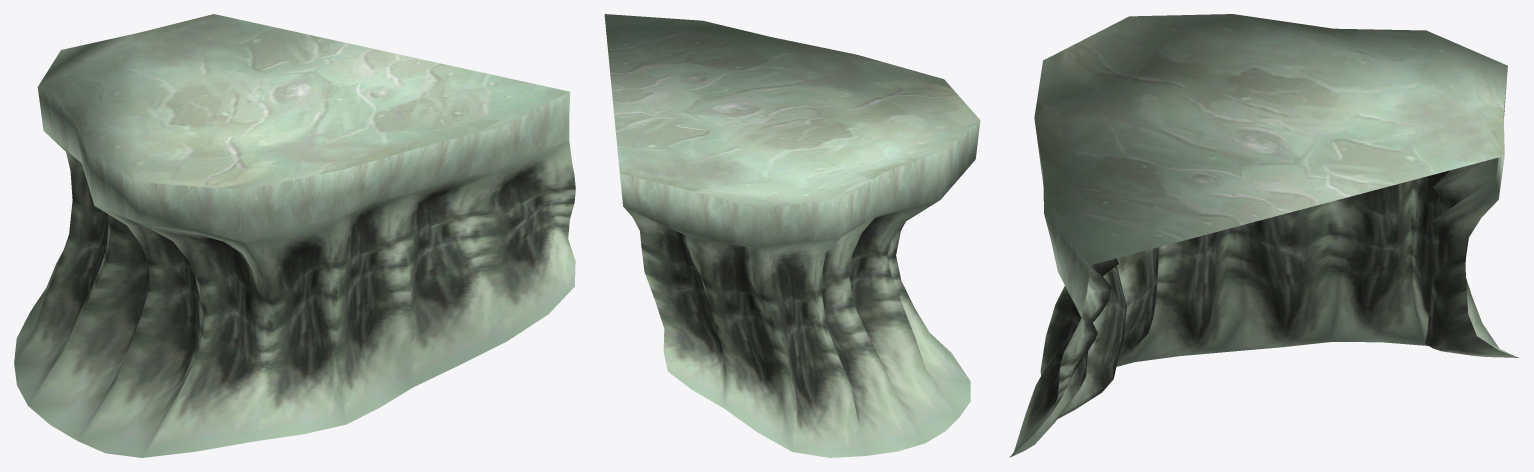
File: TROLLHOLE02_MAINCAVEPLATFORM06A.fbx
The picture shows the model from 3 angles, left to right: view 1: azimuth 30°, elevation 25°; view 2: azimuth 150°, elevation 25°; view 3: azimuth 270°, elevation 25°; orthographic projection. The views are drawn at different scales.
Visible parts, largest first — view 1: TROLLHOLE02_MAINCAVEPLATFORM06A; view 2: TROLLHOLE02_MAINCAVEPLATFORM06A; view 3: TROLLHOLE02_MAINCAVEPLATFORM06A.
Part boxes in pixels (left/top/right/bottom): TROLLHOLE02_MAINCAVEPLATFORM06A: left=14, top=14, right=575, bottom=457; TROLLHOLE02_MAINCAVEPLATFORM06A: left=604, top=14, right=980, bottom=457; TROLLHOLE02_MAINCAVEPLATFORM06A: left=1009, top=14, right=1518, bottom=457.
Size of the model in its own units: 42555 by 26084 by 34855.
2 materials, 2 textured.
